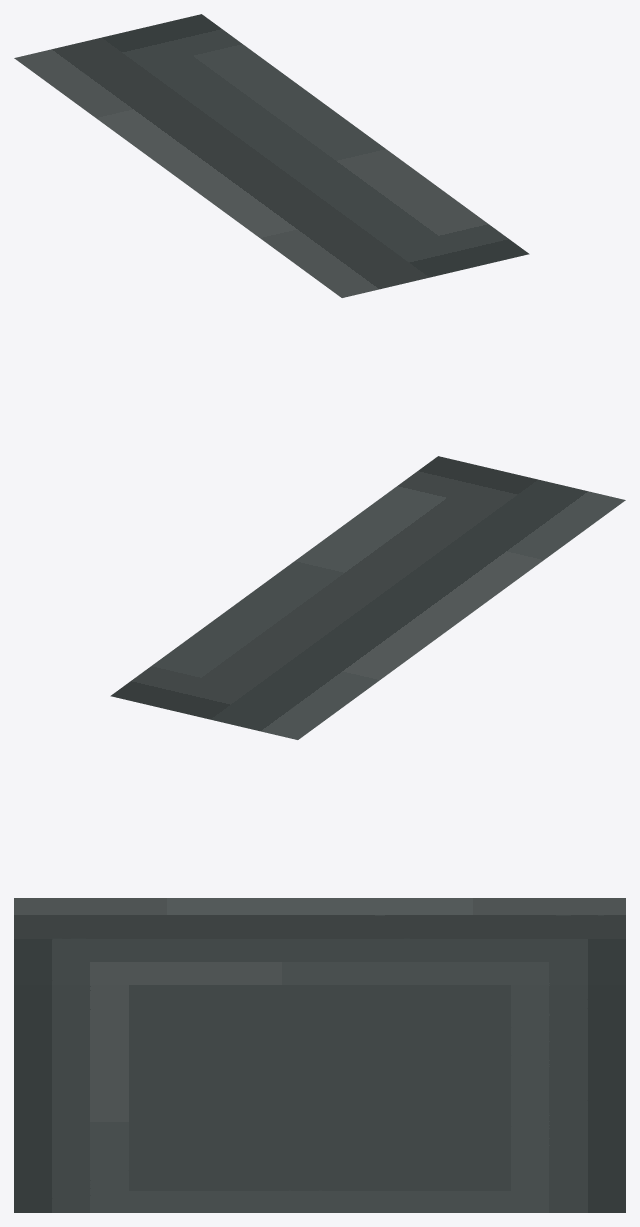
The picture shows the model from 3 angles, top to bottom: view 1: azimuth 30°, elevation 25°; view 2: azimuth 150°, elevation 25°; view 3: azimuth 270°, elevation 25°; orthographic projection. The views are drawn at different scales.
Bounding box in the file's own units: 0.5 × 0.3348 × 1.
Materials: 1 (1 with a texture image).
